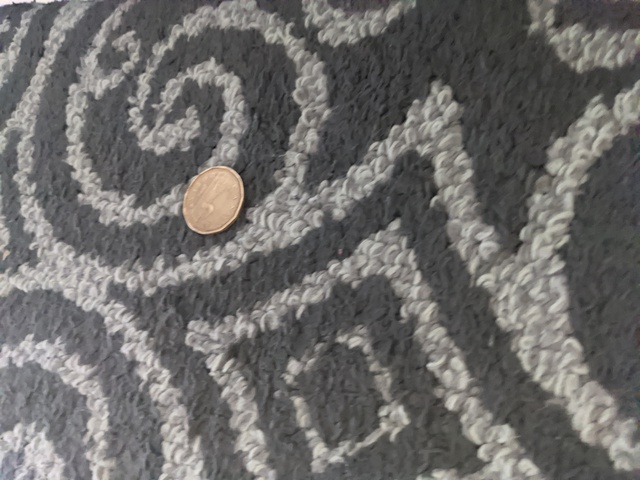loonie: (176, 160, 246, 237)
